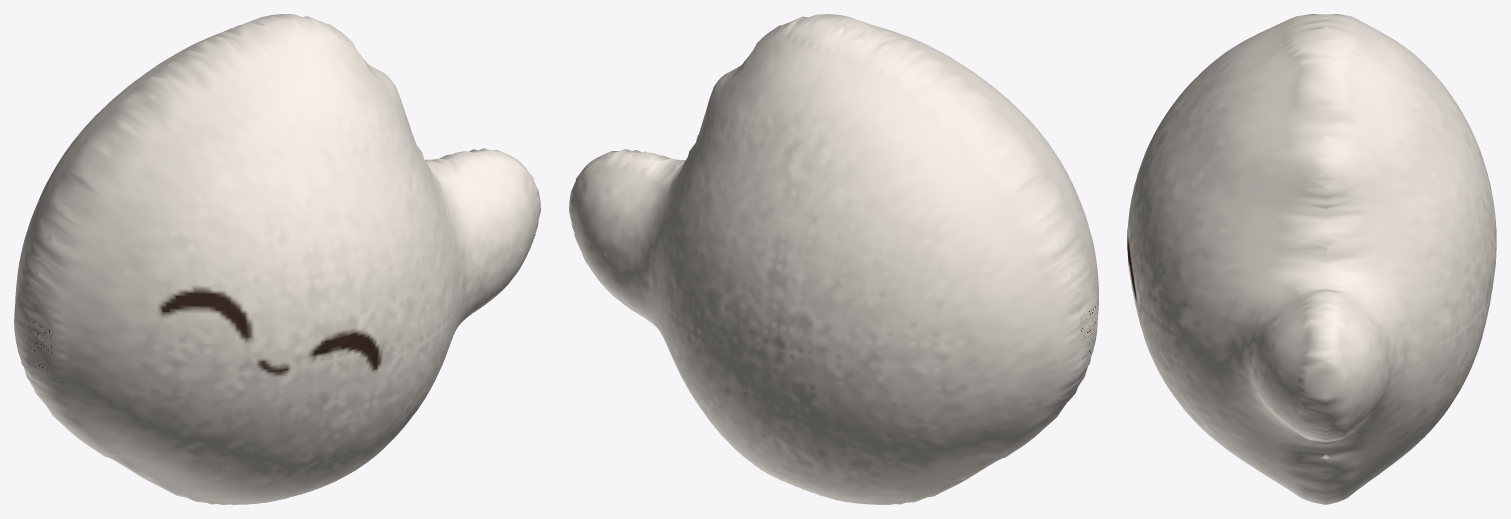
File: pulse.glb
The picture shows the model from 3 angles, left to right: view 1: azimuth 30°, elevation 25°; view 2: azimuth 150°, elevation 25°; view 3: azimuth 270°, elevation 25°; orthographic projection. The views are drawn at different scales.
Visible parts, largest first — view 1: Pulse; view 2: Pulse; view 3: Pulse.
Part boxes in pixels (bbox=[...]): Pulse: bbox=[14, 14, 540, 504]; Pulse: bbox=[569, 14, 1098, 504]; Pulse: bbox=[1127, 14, 1496, 504].
Size of the model in its own units: 1.16 by 1.01 by 0.7567.
1 material, 1 textured.
